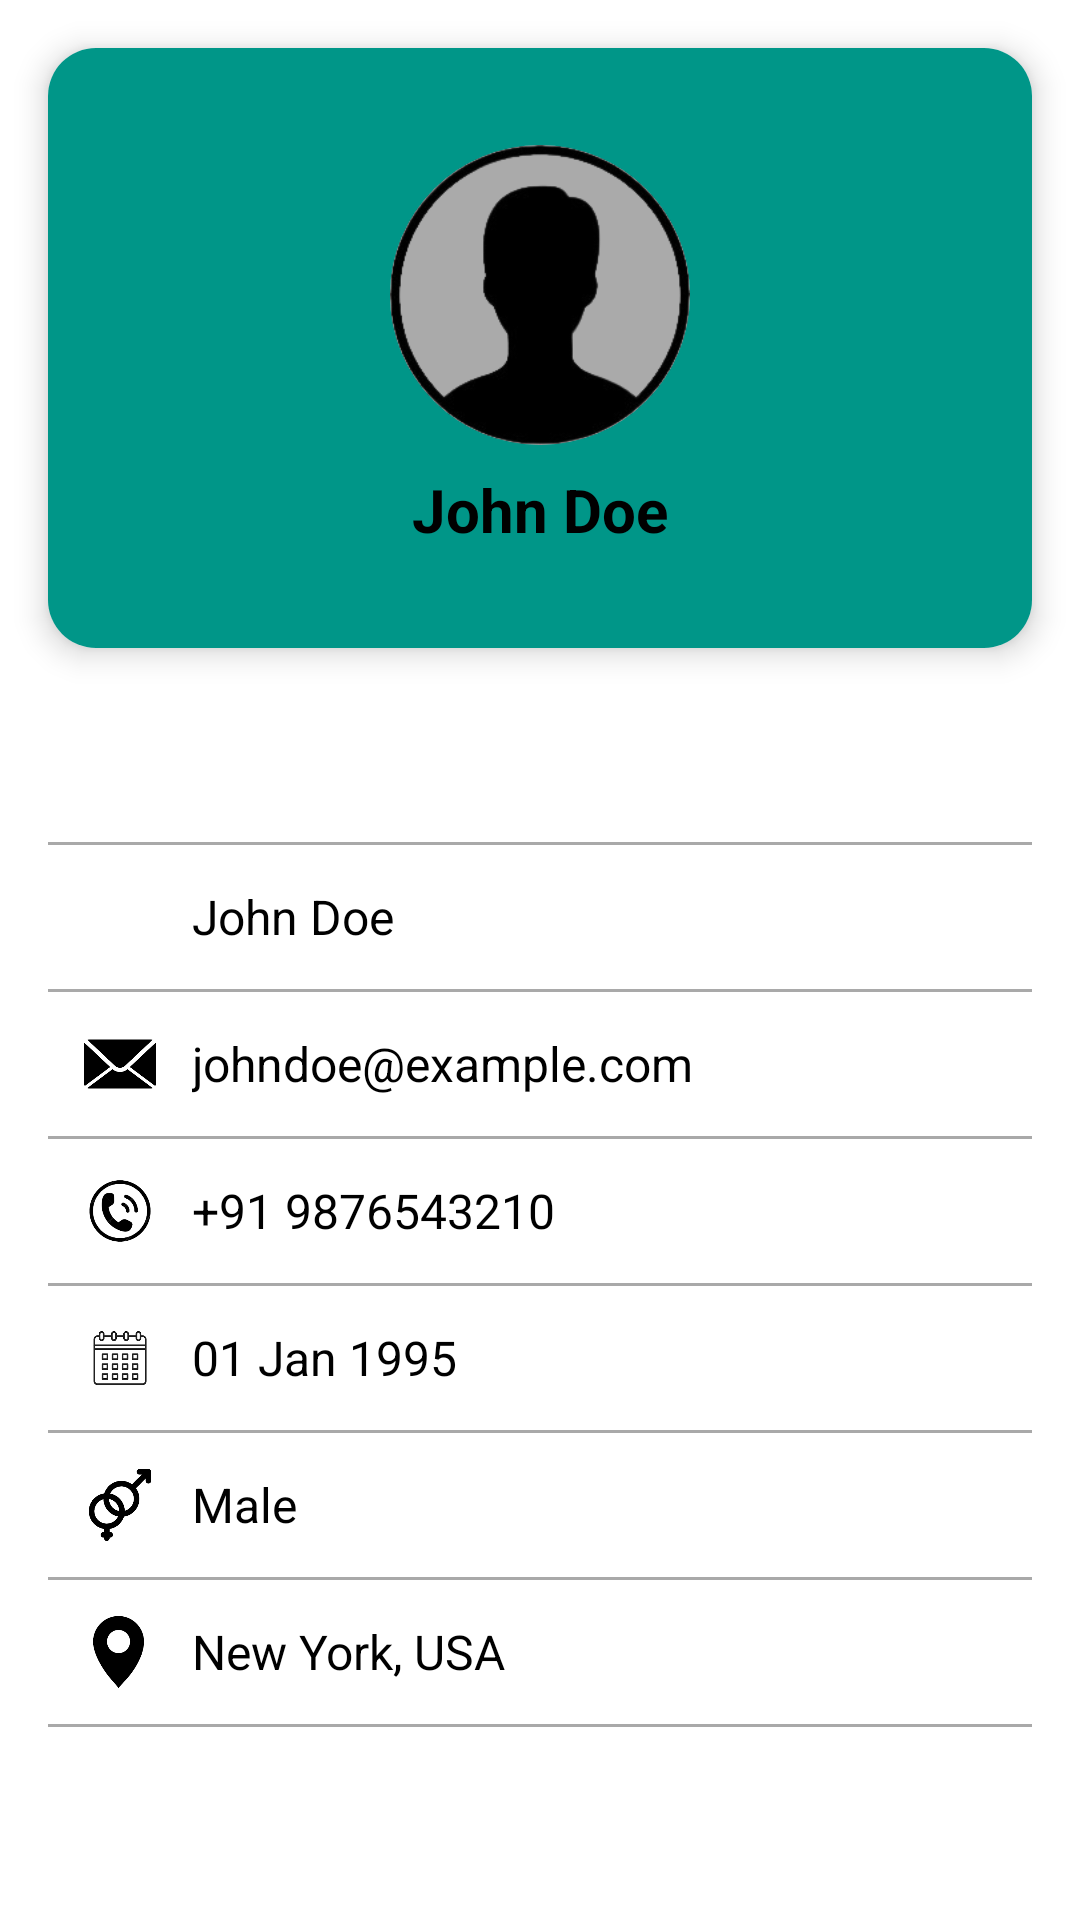

Icon click points for this 1080w x 1920h phone screenshot, format [x,y]:
DOB Icon: [120,1358]
Email Icon: [120,1064]
Gender Icon: [120,1505]
Location Icon: [118,1652]
Phone Icon: [120,1211]
Profile Picture: [540,295]
